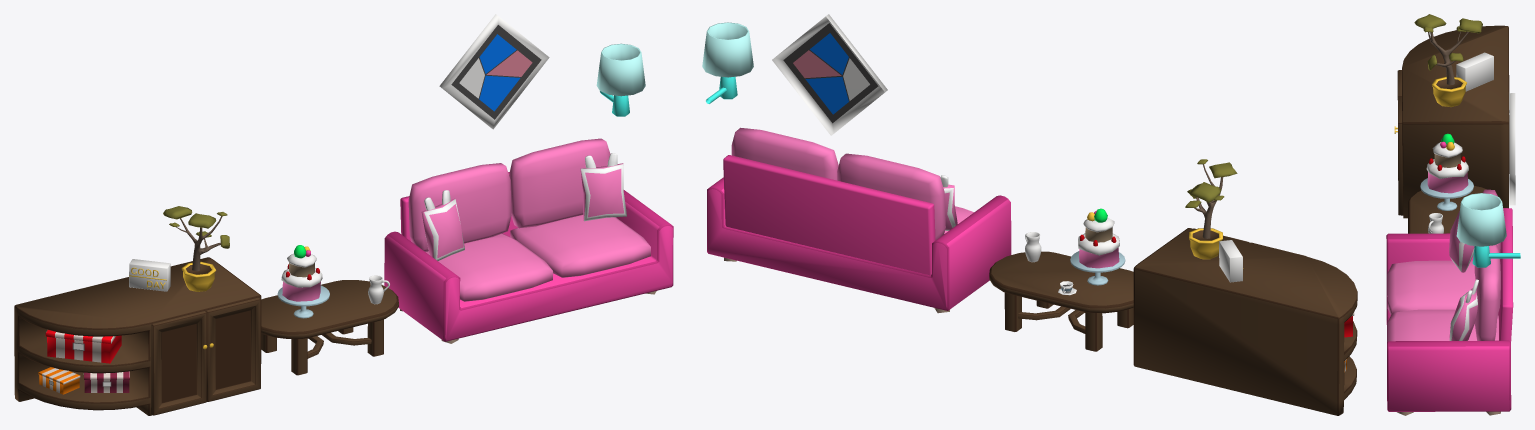
File: Drawing_Room.fbx
The picture shows the model from 3 angles, left to right: view 1: azimuth 30°, elevation 25°; view 2: azimuth 150°, elevation 25°; view 3: azimuth 270°, elevation 25°; orthographic projection. The views are drawn at different scales.
Visible parts, largest first — view 1: Sofa, Table_06, Table.05, Painting, Lamp, Cushion_02, Cake, Pot_07, Cushion_01, Box_01, Good_Day, Box_03 (+1 smaller); view 2: Sofa, Table_06, Table.05, Painting, Lamp, Cake, Pot_07, Good_Day; view 3: Sofa, Table_06, Lamp, Cake, Pot_07, Table.05, Cushion_02, Good_Day, Painting, Cushion_01, Vase.
Part boxes in pixels (x1,y1,x2,y2): Sofa: (384,138,673,343); Table_06: (14,257,261,415); Table.05: (261,280,398,375); Painting: (439,14,549,129); Lamp: (596,43,645,116); Cushion_02: (580,153,626,221); Cake: (277,245,329,318); Pot_07: (163,206,229,291); Cushion_01: (421,190,464,260); Box_01: (45,330,121,363); Good_Day: (129,259,170,291); Box_03: (83,371,129,392); Sofa: (707,127,1011,313); Table_06: (1133,228,1357,415); Table.05: (989,251,1133,351); Painting: (772,14,887,135); Lamp: (702,22,753,103); Cake: (1070,208,1125,285); Pot_07: (1185,159,1237,259); Good_Day: (1219,240,1243,282); Sofa: (1386,189,1513,415); Table_06: (1394,25,1509,218); Lamp: (1456,193,1520,267); Cake: (1420,133,1473,210); Pot_07: (1414,14,1482,106); Table.05: (1408,186,1502,233); Cushion_02: (1449,279,1478,340); Good_Day: (1456,52,1493,91); Painting: (1509,93,1515,205); Cushion_01: (1449,210,1474,272); Vase: (1428,213,1443,233).
Size of the model in its own units: 668 by 277 by 123.
